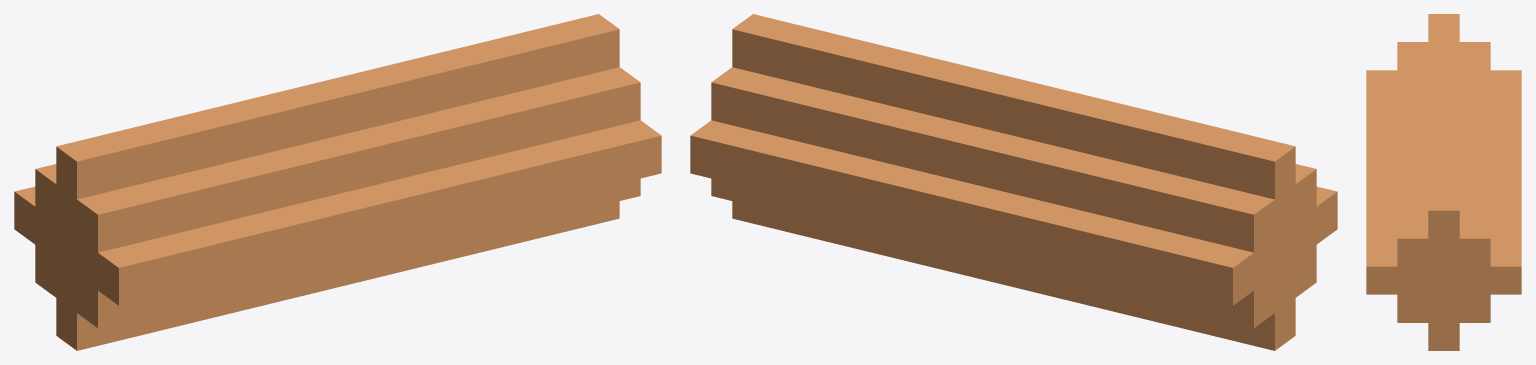
File: PAKO_Bread.fbx
3 renders of one model, left to right at view 1: azimuth 30°, elevation 25°; view 2: azimuth 150°, elevation 25°; view 3: azimuth 270°, elevation 25°, orthographic. The views are drawn at different scales.
Parts seen in each view (by area): view 1: PAKO_Bread:PAKO_Bread; view 2: PAKO_Bread:PAKO_Bread; view 3: PAKO_Bread:PAKO_Bread.
Part boxes in pixels (left/top/right/bottom): PAKO_Bread:PAKO_Bread: left=14, top=14, right=661, bottom=350; PAKO_Bread:PAKO_Bread: left=690, top=14, right=1337, bottom=350; PAKO_Bread:PAKO_Bread: left=1366, top=14, right=1521, bottom=350.
Size of the model in its own units: 15 by 5 by 5.
